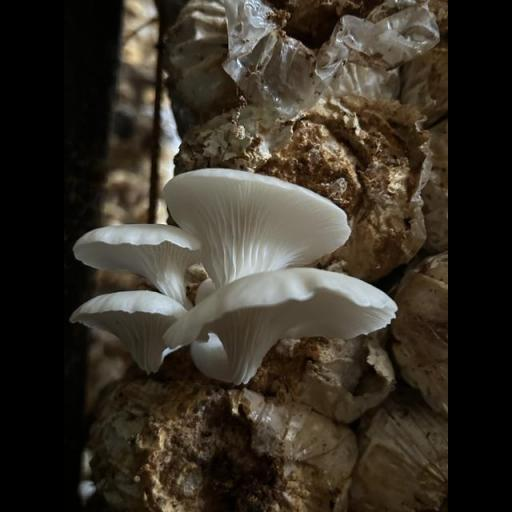White Oyster Mushroom: (72, 166, 396, 383)
